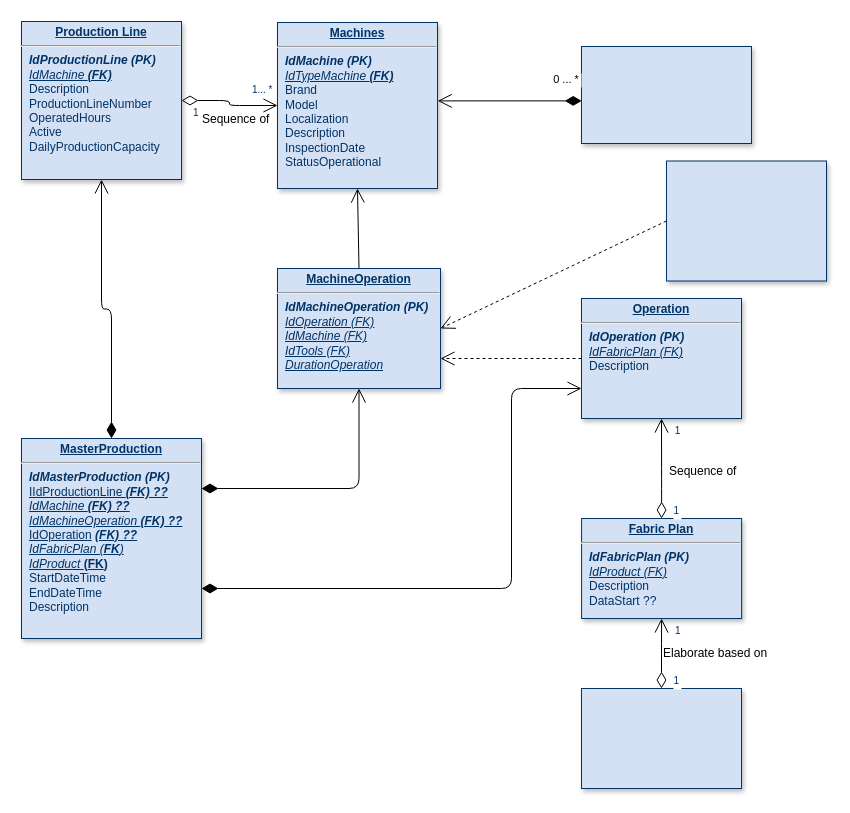
This 850x813 diagram has some shape labels left out. The centre of each missing label's shape, as x and y in pixels:
"Product IdProduct (PK) Description Active" belongs at [662,740].
"Tools IdTools (PK) Description" belongs at [747,222].
"Type of Machines IdTypeMachine (PK) Description" belongs at [667,96].
